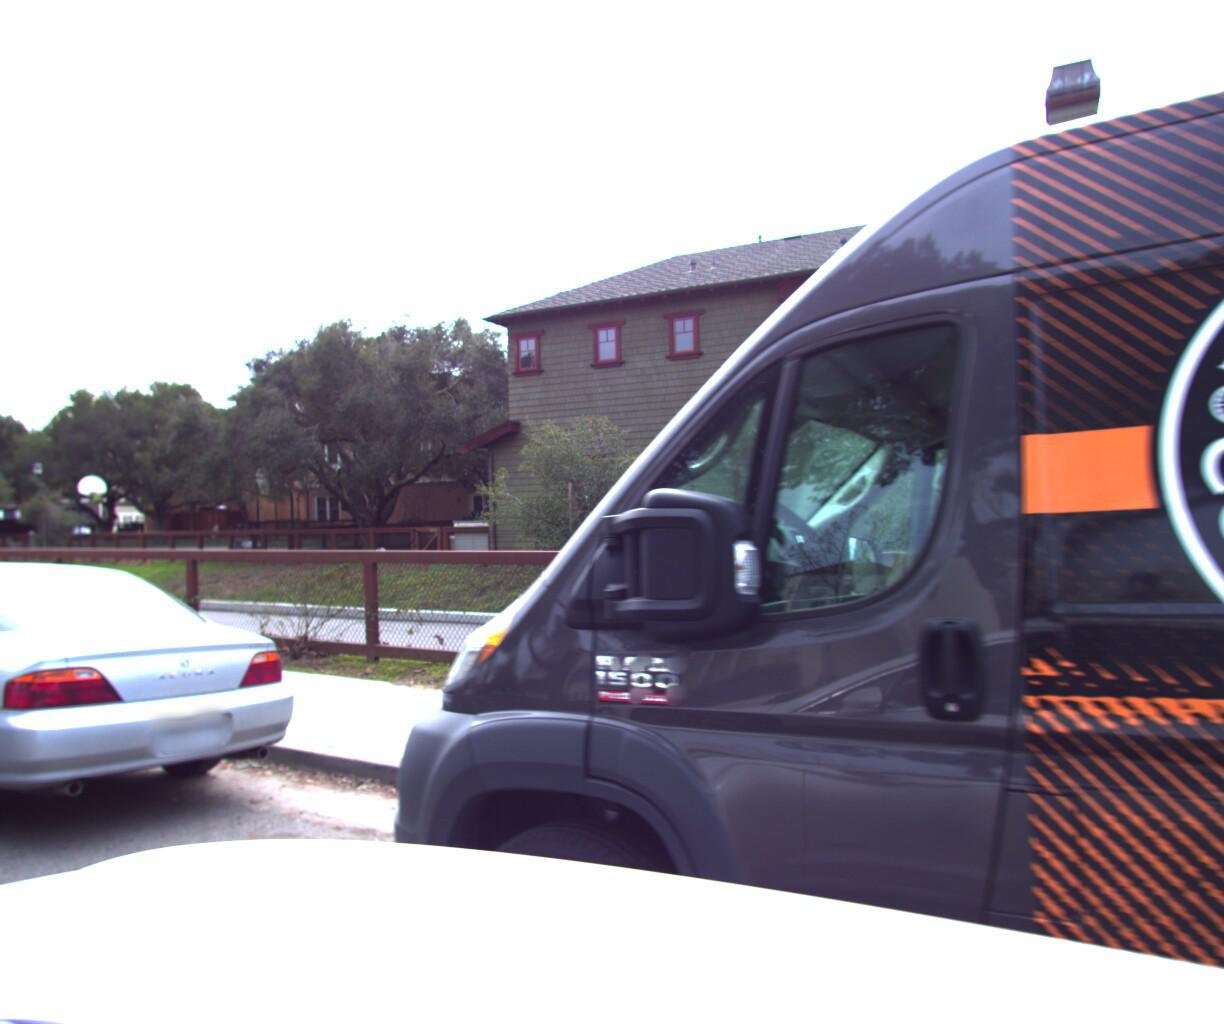car: (0, 543, 316, 903)
